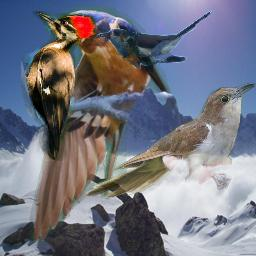Cuckoo: (83, 82, 256, 198), (96, 10, 215, 69)
Swallow: (29, 7, 177, 243)
Woodpecker: (19, 11, 96, 161)
